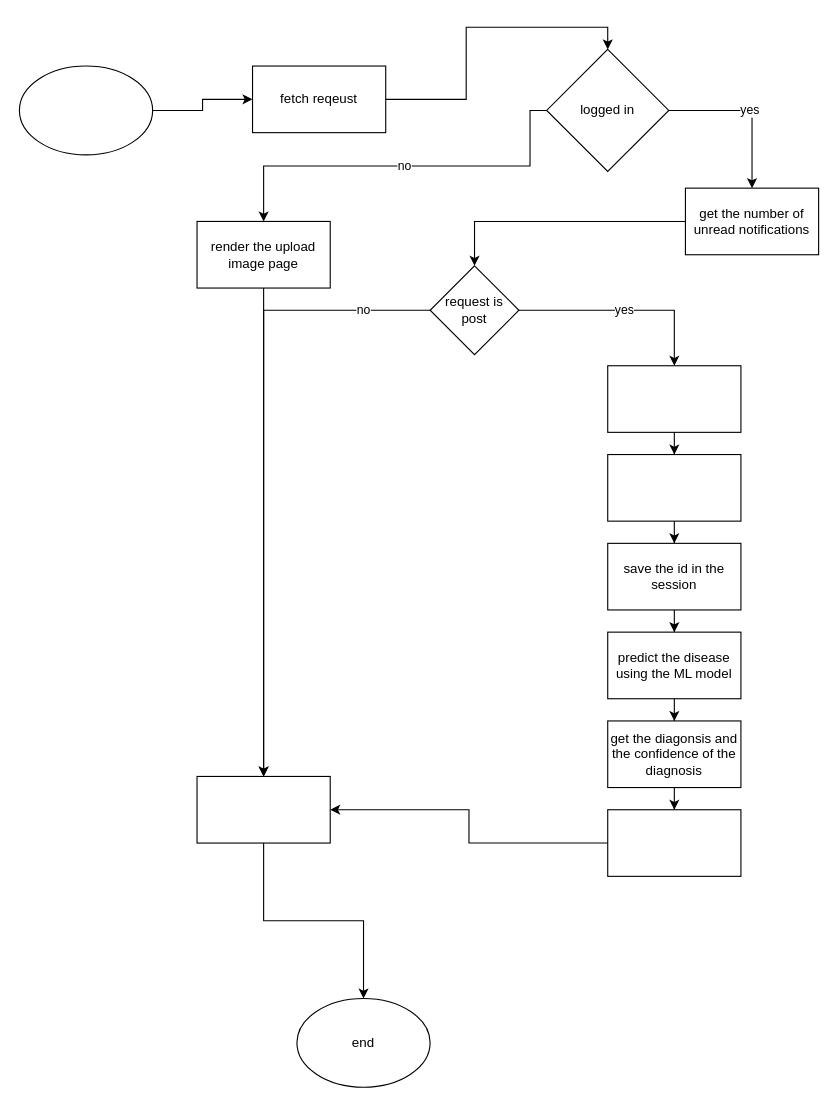
The diagram is 838 pixels wide and 1107 high, and some of its shapes have lost their labels. The centre of each missing label's shape, as x and y in pixels:
get the image: pixel 674 398
redirect to the result page: pixel 263 809
save it in the data base: pixel 674 487
save the diagnosis and the confidence: pixel 674 842
start: pixel 85 110
